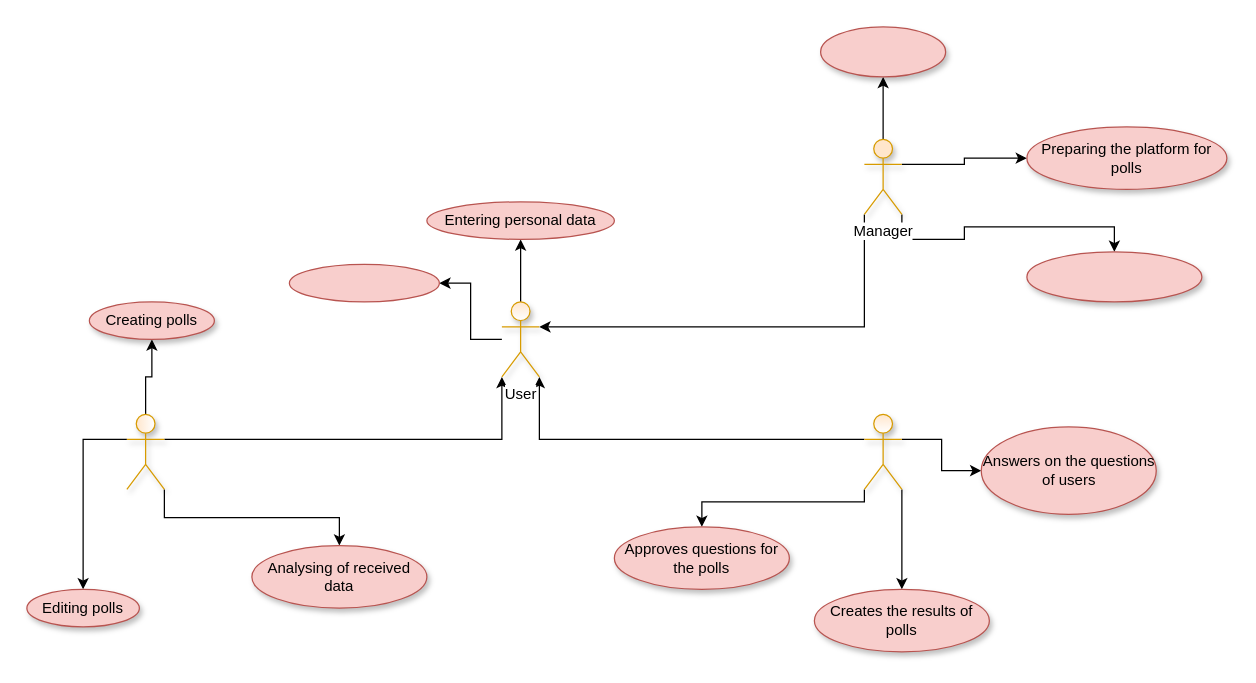
This 1256x683 diagram has some shape labels left out. Each missing label, with the centre of its shape:
Analyst: the point at 146,453
Answering polls: the point at 363,282
Checking existing polls: the point at 1115,278
Editing content: the point at 883,53
Expert: the point at 883,453
